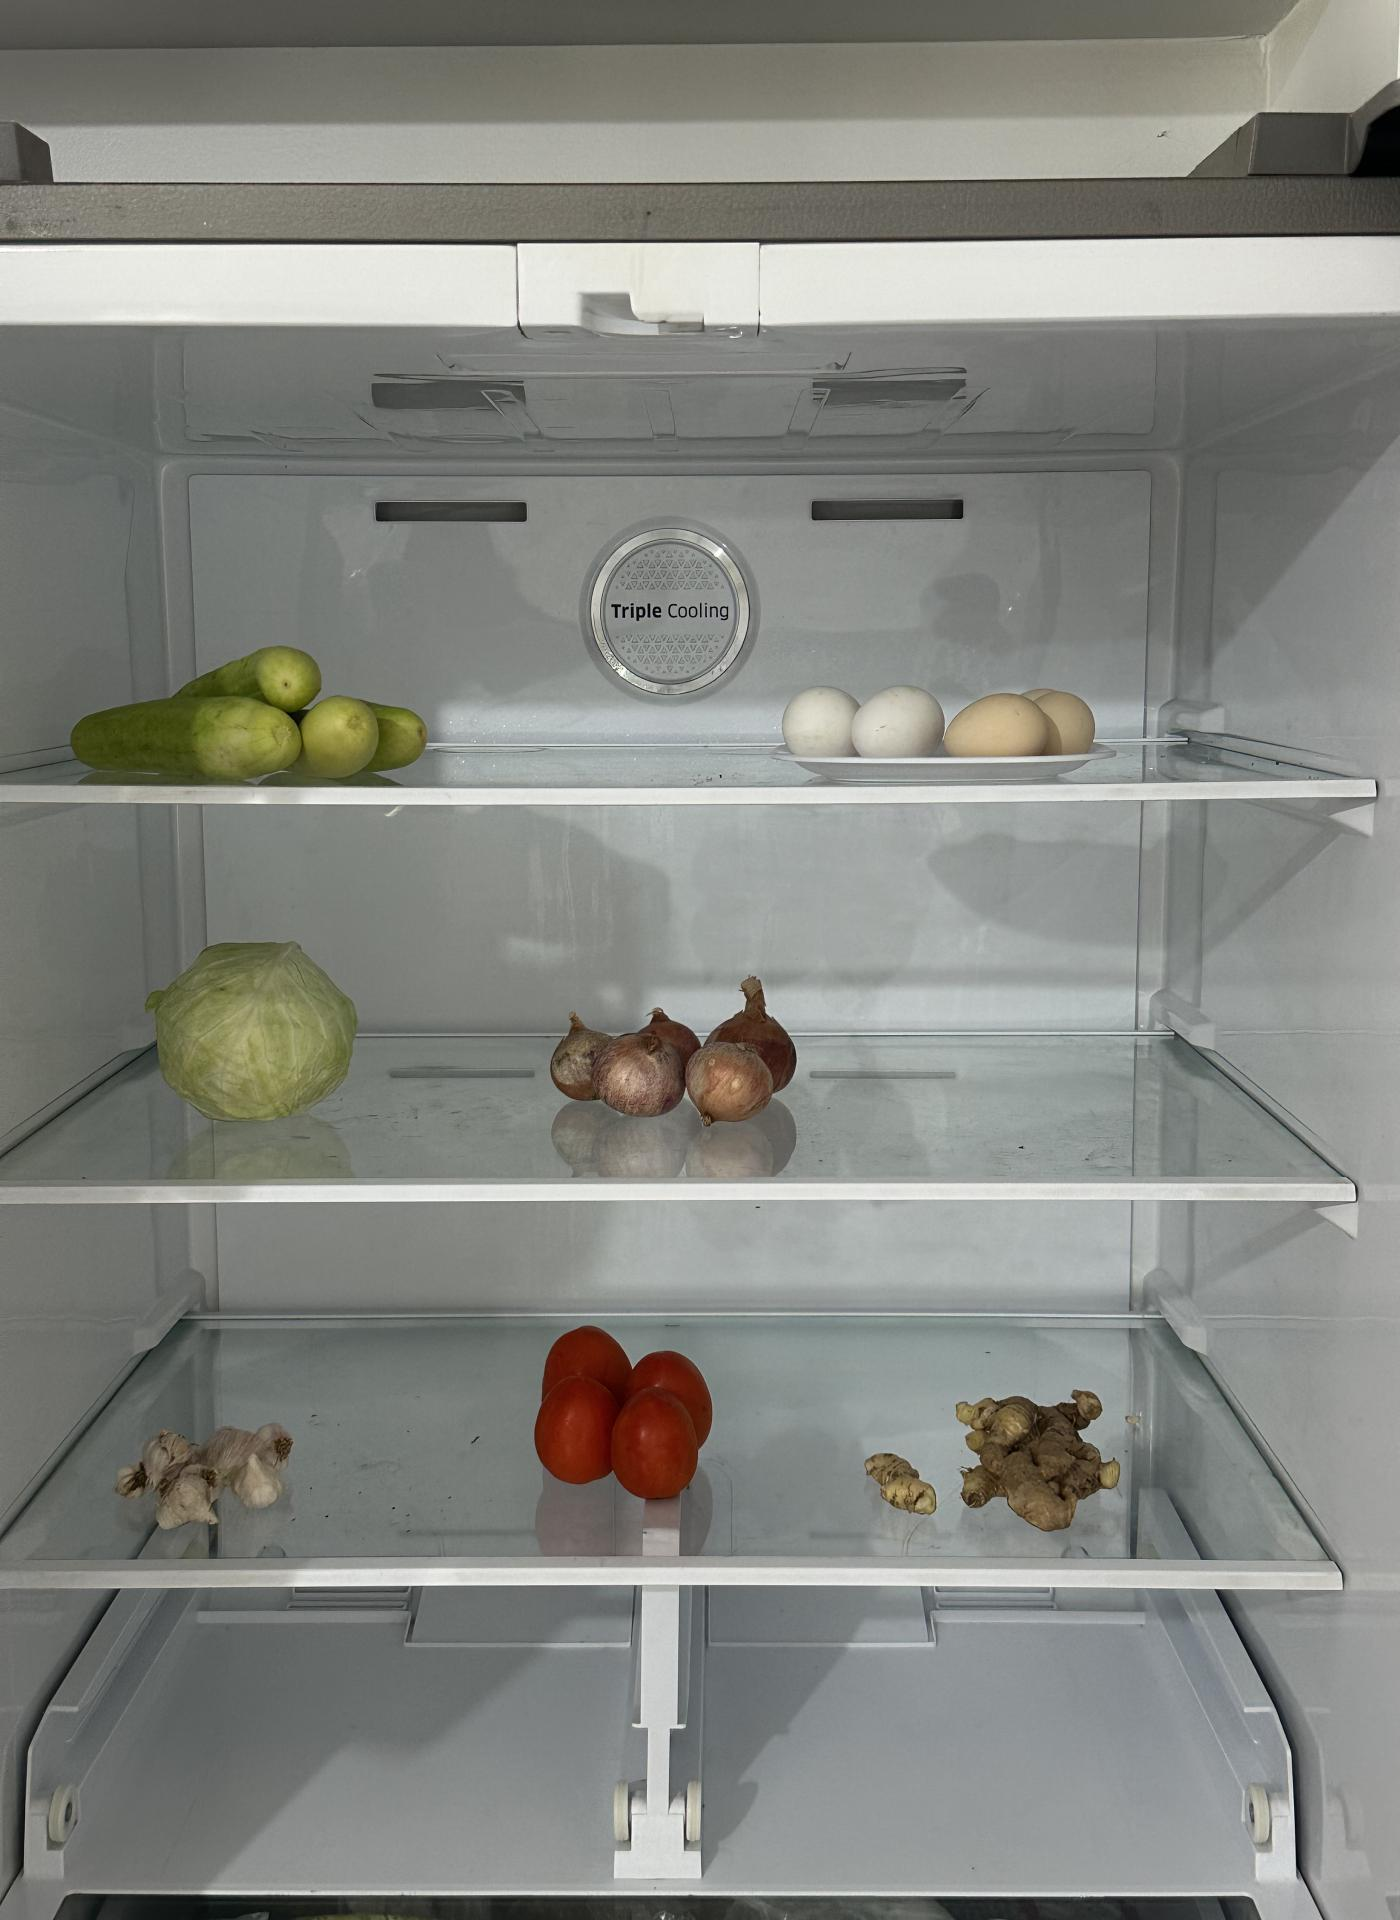cabbage: (152, 935, 358, 1125)
cucumber: (64, 644, 437, 784)
egg: (780, 683, 1118, 769)
garlic: (107, 1407, 294, 1537)
ginger: (866, 1386, 1127, 1526)
onion: (543, 982, 819, 1118)
tomato: (535, 1321, 713, 1501)
